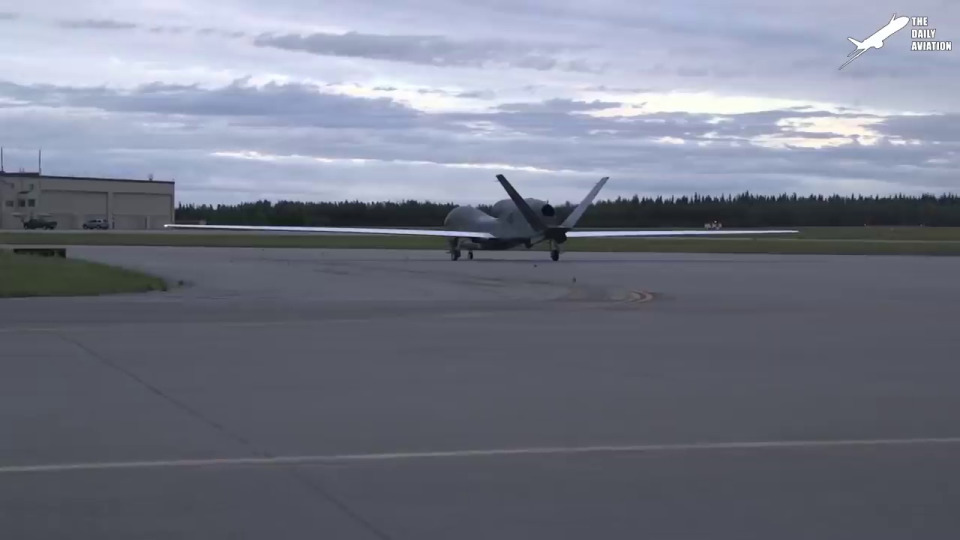military drone: (165, 173, 800, 260)
